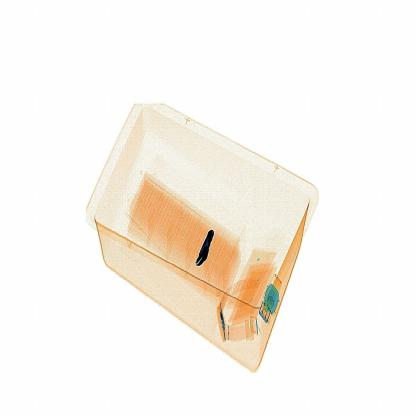knife: (191, 223, 222, 270)
